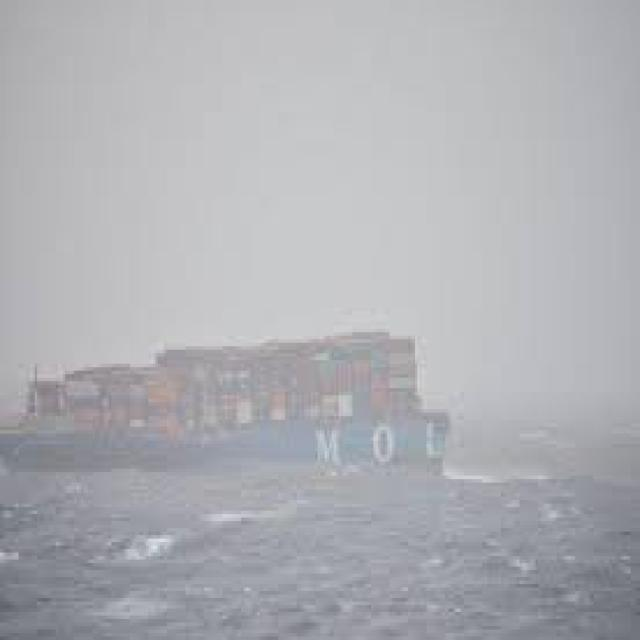cargoship: (0, 321, 443, 484)
